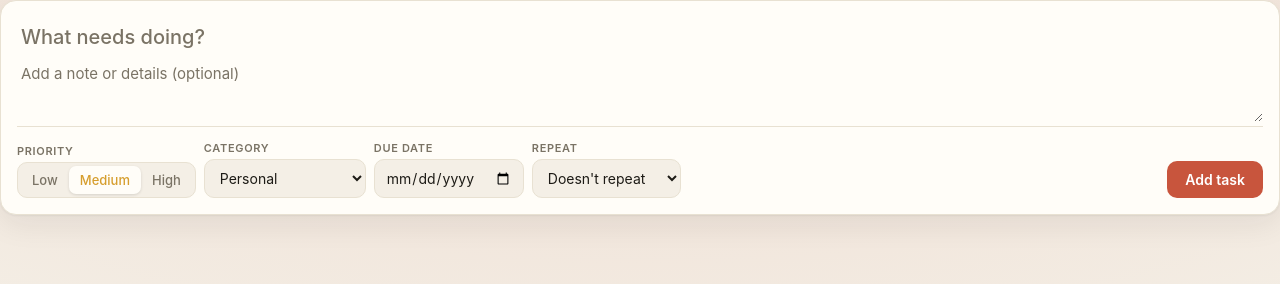
it: TodoForm › shows a hint instead of doing nothing when the title is empty
Click the button "Add task" at (1215, 180), box [1167,161,1263,198]
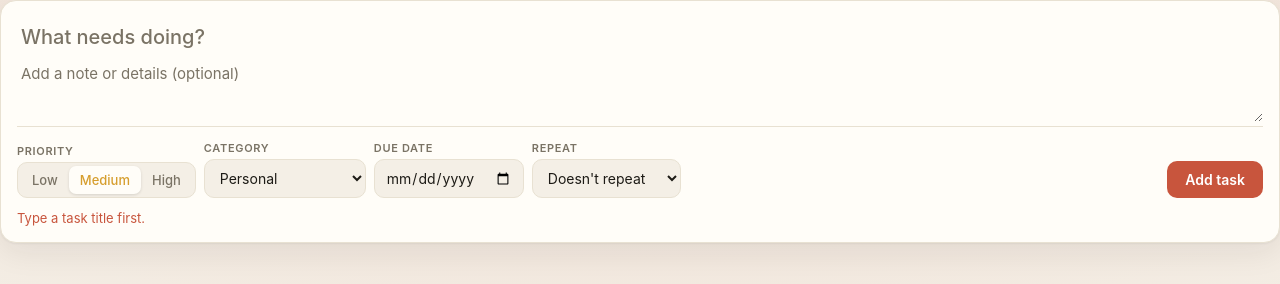
Expected: the message shows "title", [17,210,145,226]
